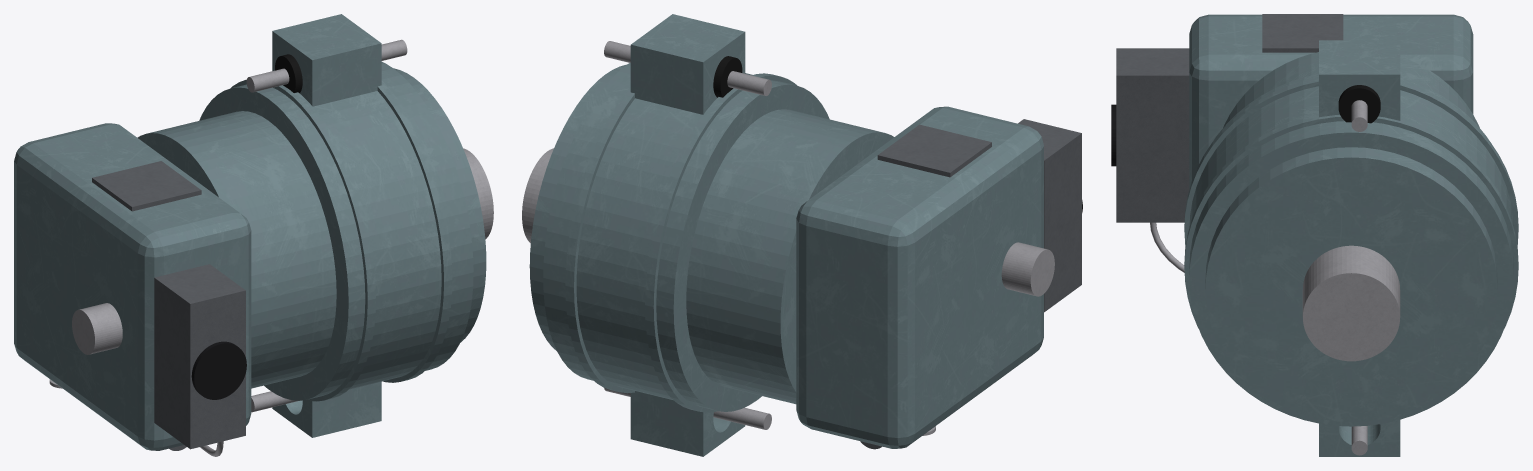
File: gearbox.glb
The picture shows the model from 3 angles, left to right: view 1: azimuth 30°, elevation 25°; view 2: azimuth 150°, elevation 25°; view 3: azimuth 270°, elevation 25°; orthographic projection. The views are drawn at different scales.
Parts seen in each view (by area): view 1: gearbox; view 2: gearbox; view 3: gearbox.
Part boxes in pixels (x1,y1,x2,y2): gearbox: (14, 14, 493, 456); gearbox: (522, 14, 1082, 456); gearbox: (1111, 14, 1518, 456).
Size of the model in its own units: 3.1 by 2.6 by 2.51.
5 materials, 3 textured.
